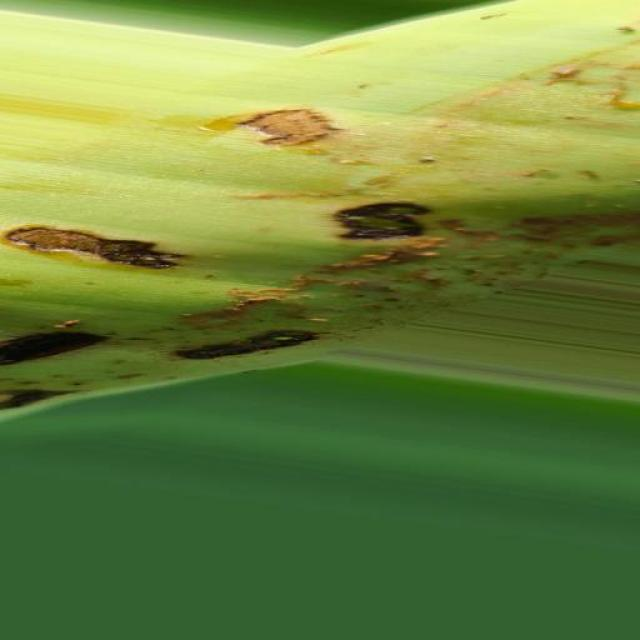Black_rot: (1, 16, 640, 439)
